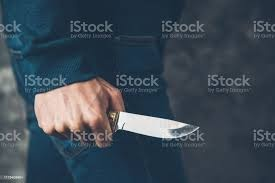knife: (102, 111, 199, 139)
